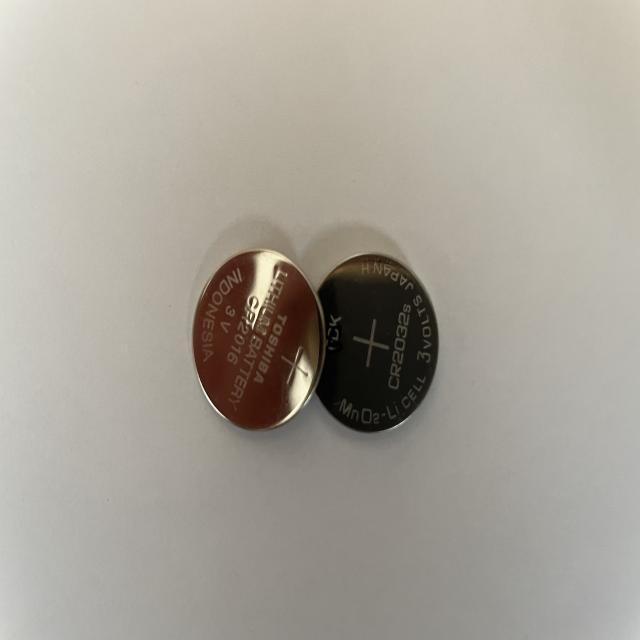COIN: (192, 250, 324, 430), (312, 252, 439, 435)
